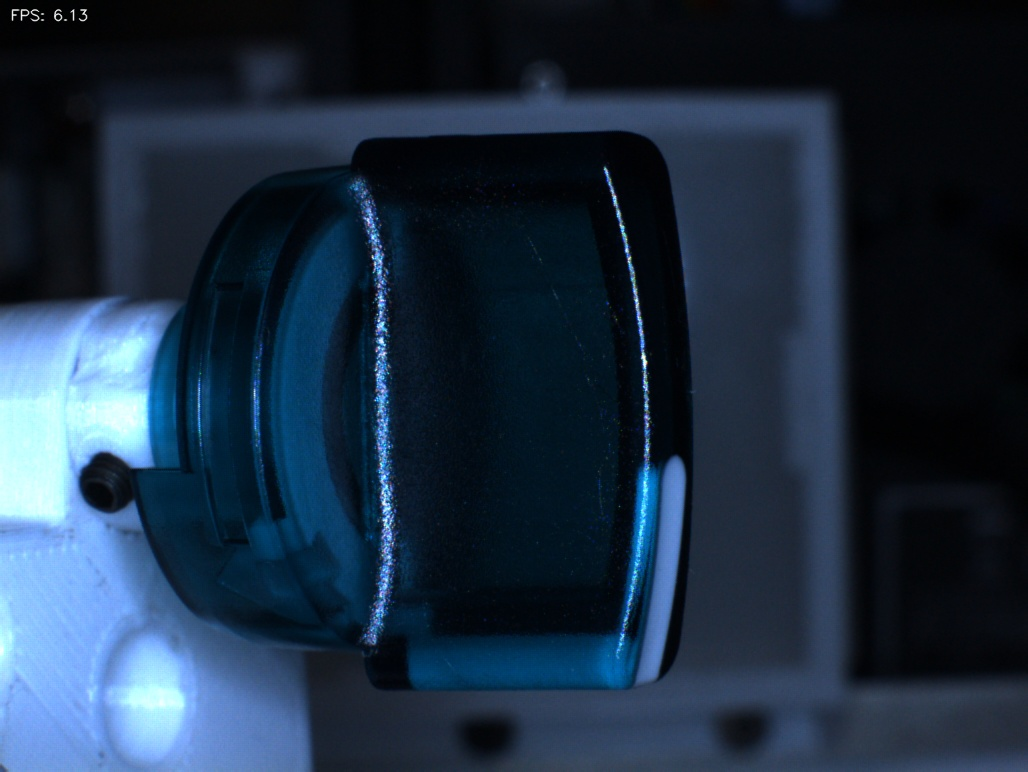Givrage: (521, 230, 638, 524)
